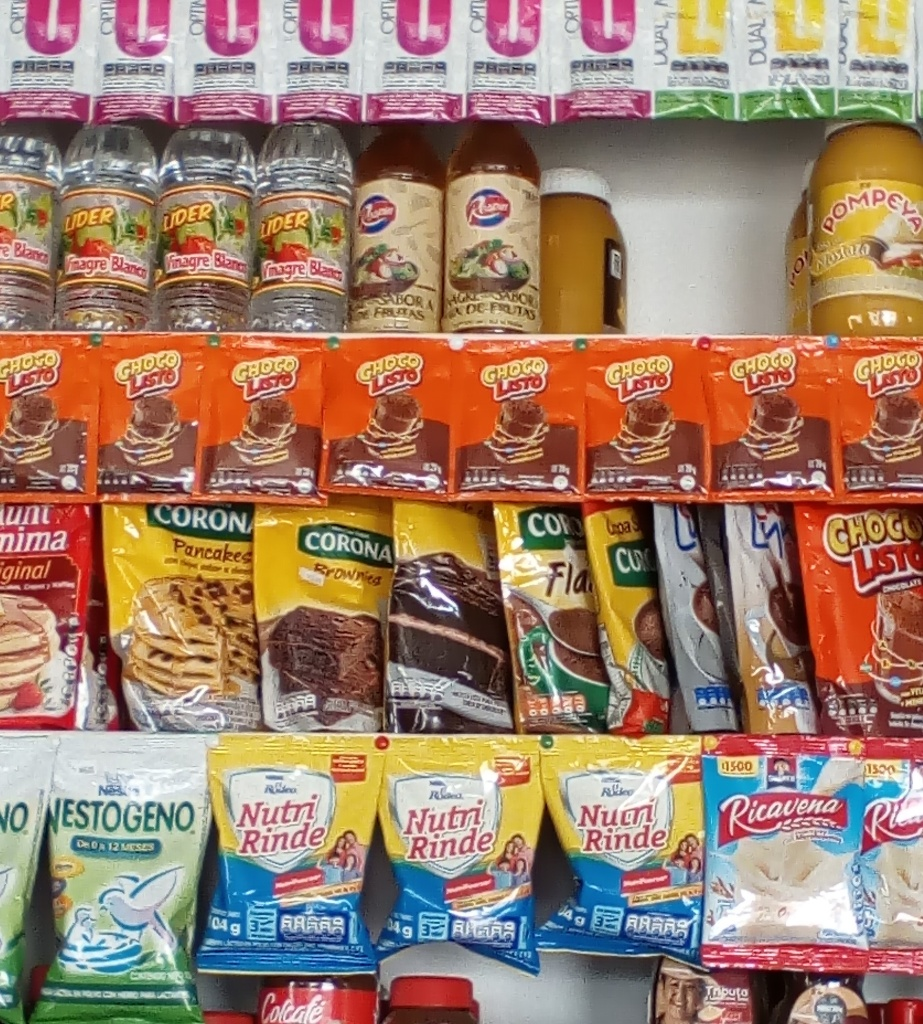COL0170103SOB02000: (831, 330, 918, 498)
